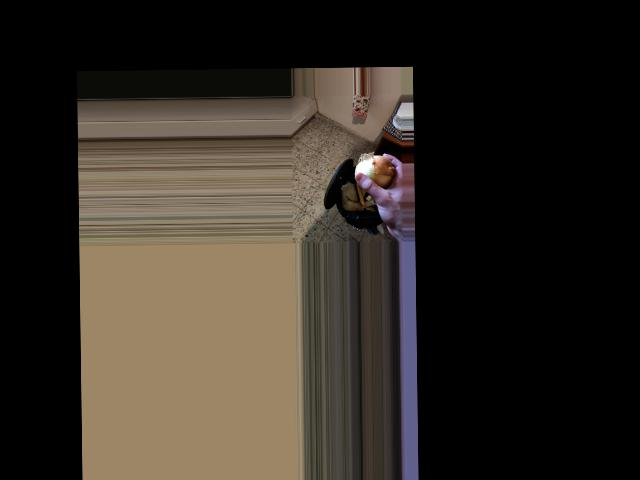onion: (356, 154, 391, 192)
